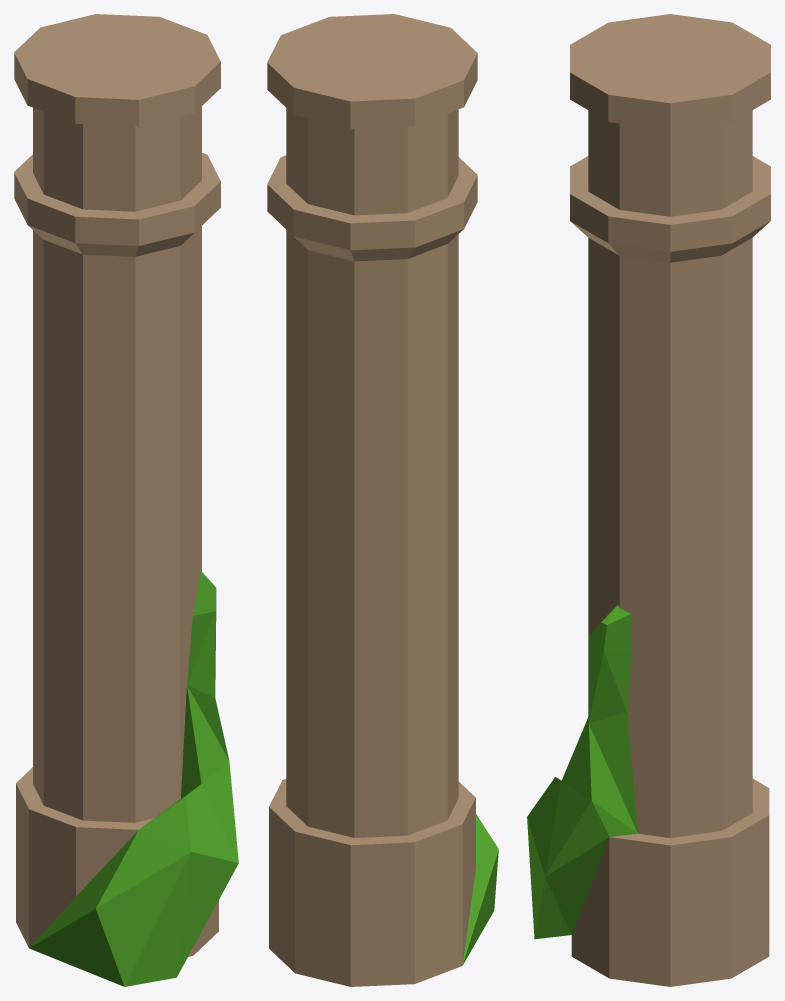
File: 3D_obstacle_column_moss_01.fbx
3 views of the same model, side by side, from view 1: azimuth 30°, elevation 25°; view 2: azimuth 150°, elevation 25°; view 3: azimuth 270°, elevation 25° (orthographic).
Parts seen in each view (by area): view 1: SM_colomn_moss_01; view 2: SM_colomn_moss_01; view 3: SM_colomn_moss_01.
Part boxes in pixels (left/top/right/bottom): SM_colomn_moss_01: left=14, top=14, right=238, bottom=986; SM_colomn_moss_01: left=267, top=14, right=498, bottom=986; SM_colomn_moss_01: left=527, top=14, right=770, bottom=986.
Bounding box in the file's own units: 84 × 388 × 96.96.
1 material, 1 textured.
